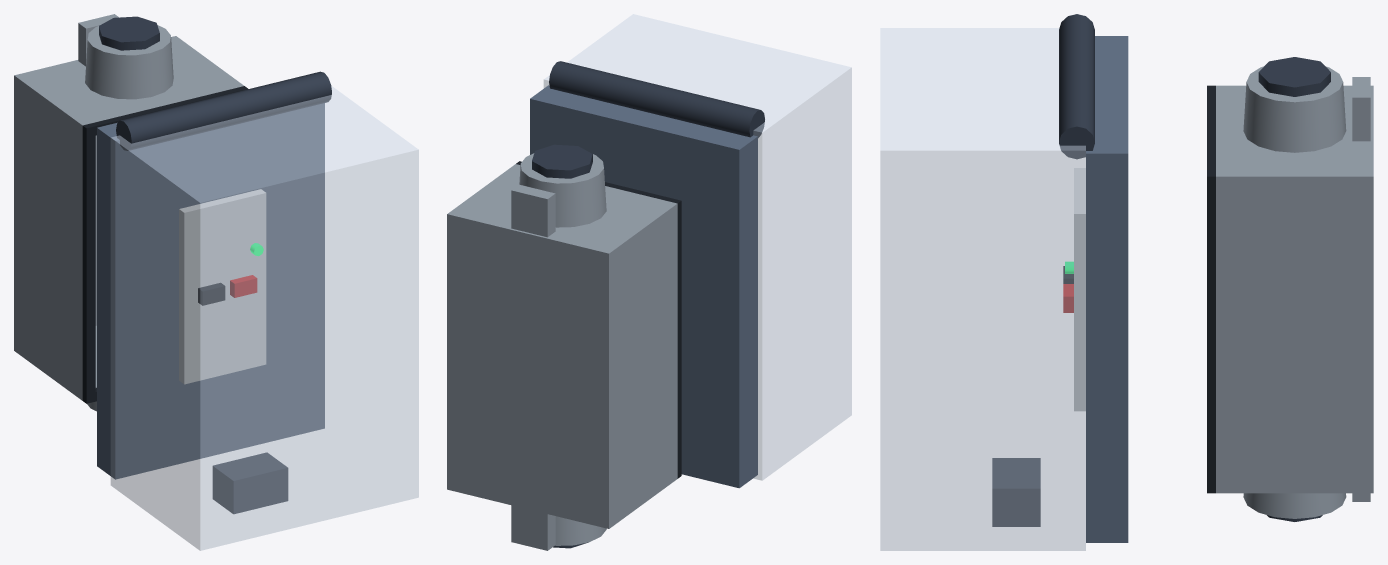
3 renders of one model, left to right at view 1: azimuth 30°, elevation 25°; view 2: azimuth 150°, elevation 25°; view 3: azimuth 270°, elevation 25°, orthographic. The views are drawn at different scales.
Parts seen in each view (by area): view 1: cad-device-weatherproof-inuse, cad-box-weatherproof-fs; view 2: cad-device-weatherproof-inuse, cad-box-weatherproof-fs; view 3: cad-device-weatherproof-inuse, cad-box-weatherproof-fs.
Boxes of the visible parts, x1,y1,x2,y2 form: cad-device-weatherproof-inuse: [97, 71, 418, 550]; cad-box-weatherproof-fs: [14, 14, 248, 411]; cad-device-weatherproof-inuse: [530, 14, 851, 488]; cad-box-weatherproof-fs: [447, 144, 681, 550]; cad-device-weatherproof-inuse: [880, 14, 1128, 550]; cad-box-weatherproof-fs: [1207, 57, 1373, 521].
Bounding box in the file's own units: 0.096 × 0.161 × 0.1631.
